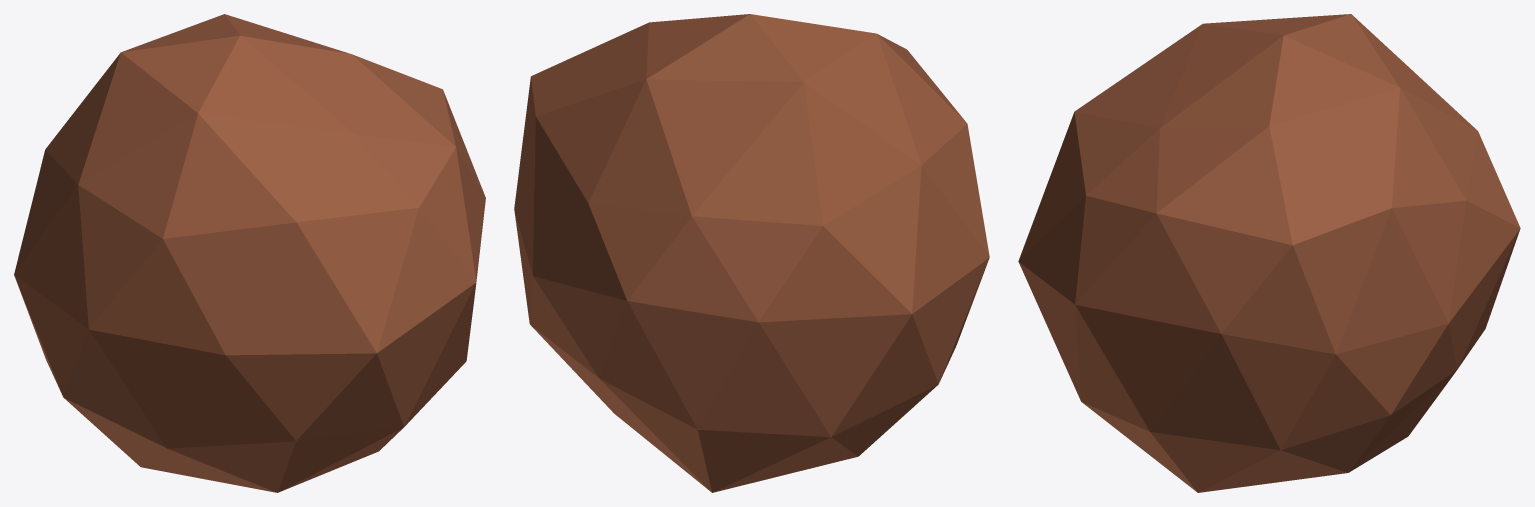
Rendered from Lumpy Coconut.fbx.
The picture shows the model from 3 angles, left to right: view 1: azimuth 30°, elevation 25°; view 2: azimuth 150°, elevation 25°; view 3: azimuth 270°, elevation 25°; orthographic projection. The views are drawn at different scales.
Parts seen in each view (by area): view 1: Lumpy Coconut; view 2: Lumpy Coconut; view 3: Lumpy Coconut.
Boxes of the visible parts, x1,y1,x2,y2 form: Lumpy Coconut: [14, 14, 485, 492]; Lumpy Coconut: [514, 14, 989, 492]; Lumpy Coconut: [1018, 14, 1520, 492].
Bounding box in the file's own units: 194 × 193 × 206.
